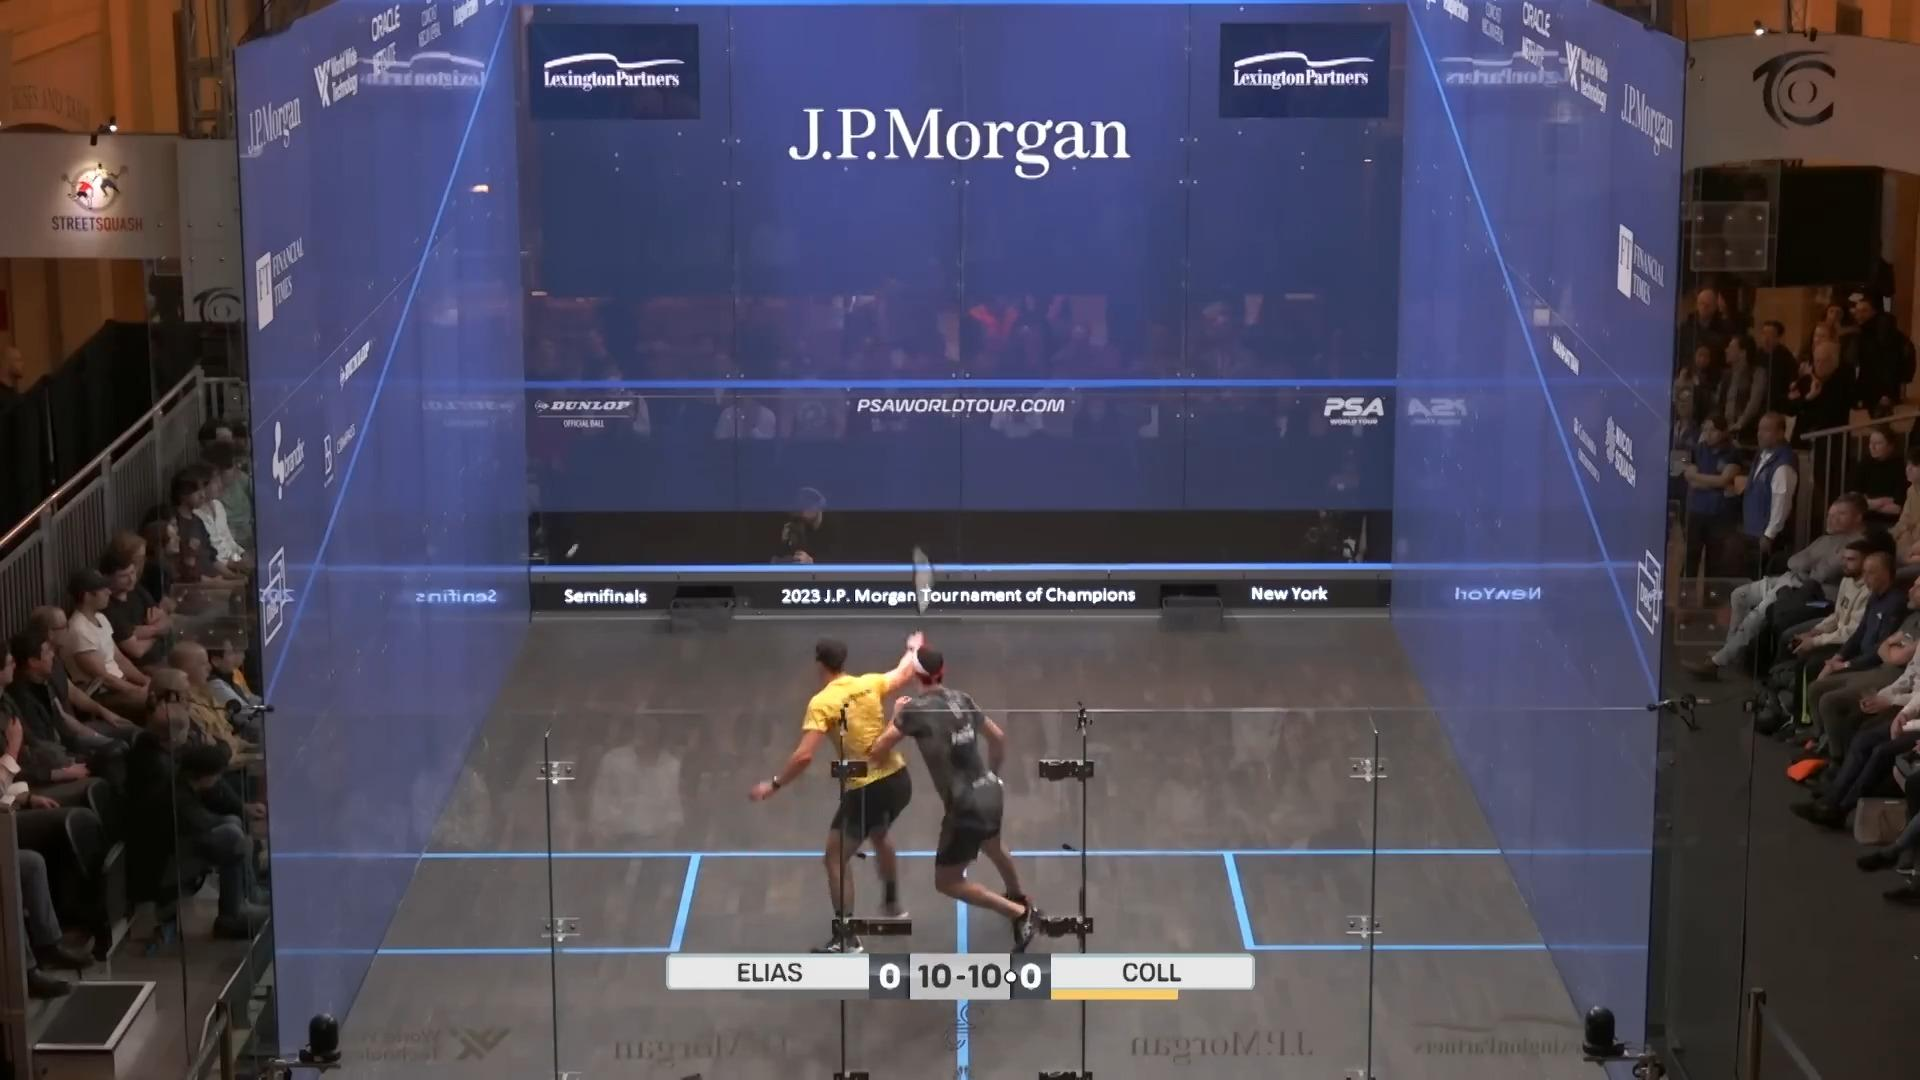Racket: (893, 542, 942, 637)
